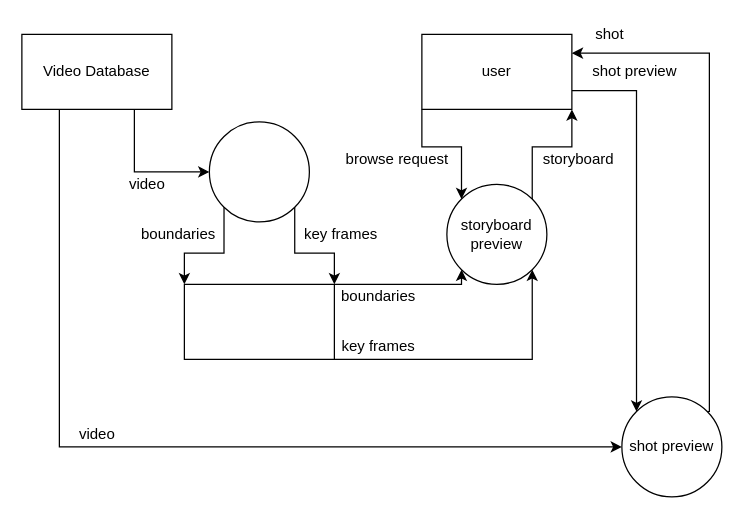
Image size: 744x519. Some labels were removed from this diagram. The centre of each missing label's shape, as x and y in pixels:
annotation database: (x=258, y=321)
shot boundary direction: (x=258, y=171)
